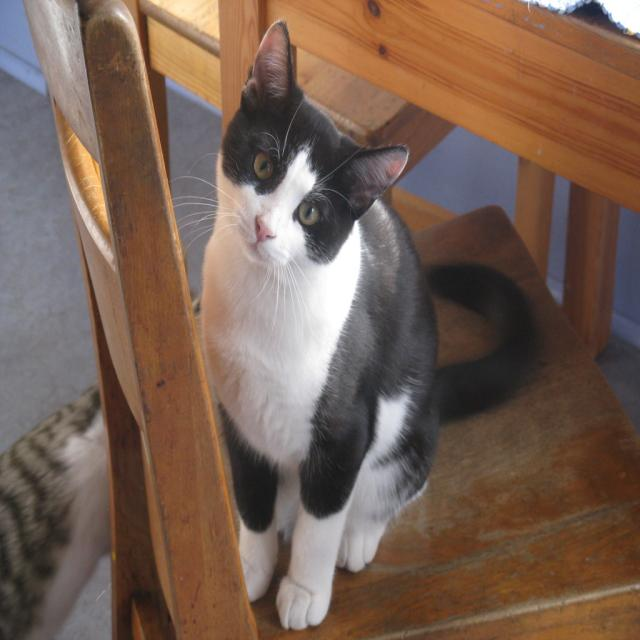Cat: (173, 14, 543, 634)
